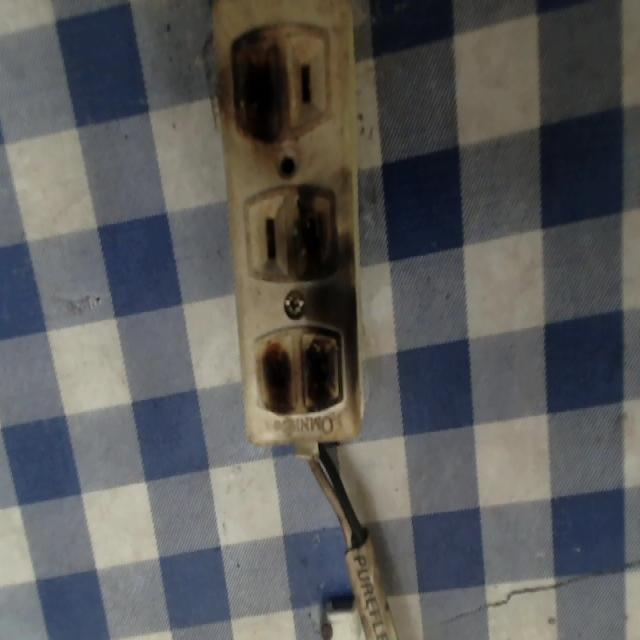-: (248, 312, 351, 435), (227, 22, 294, 146), (280, 179, 352, 284)
